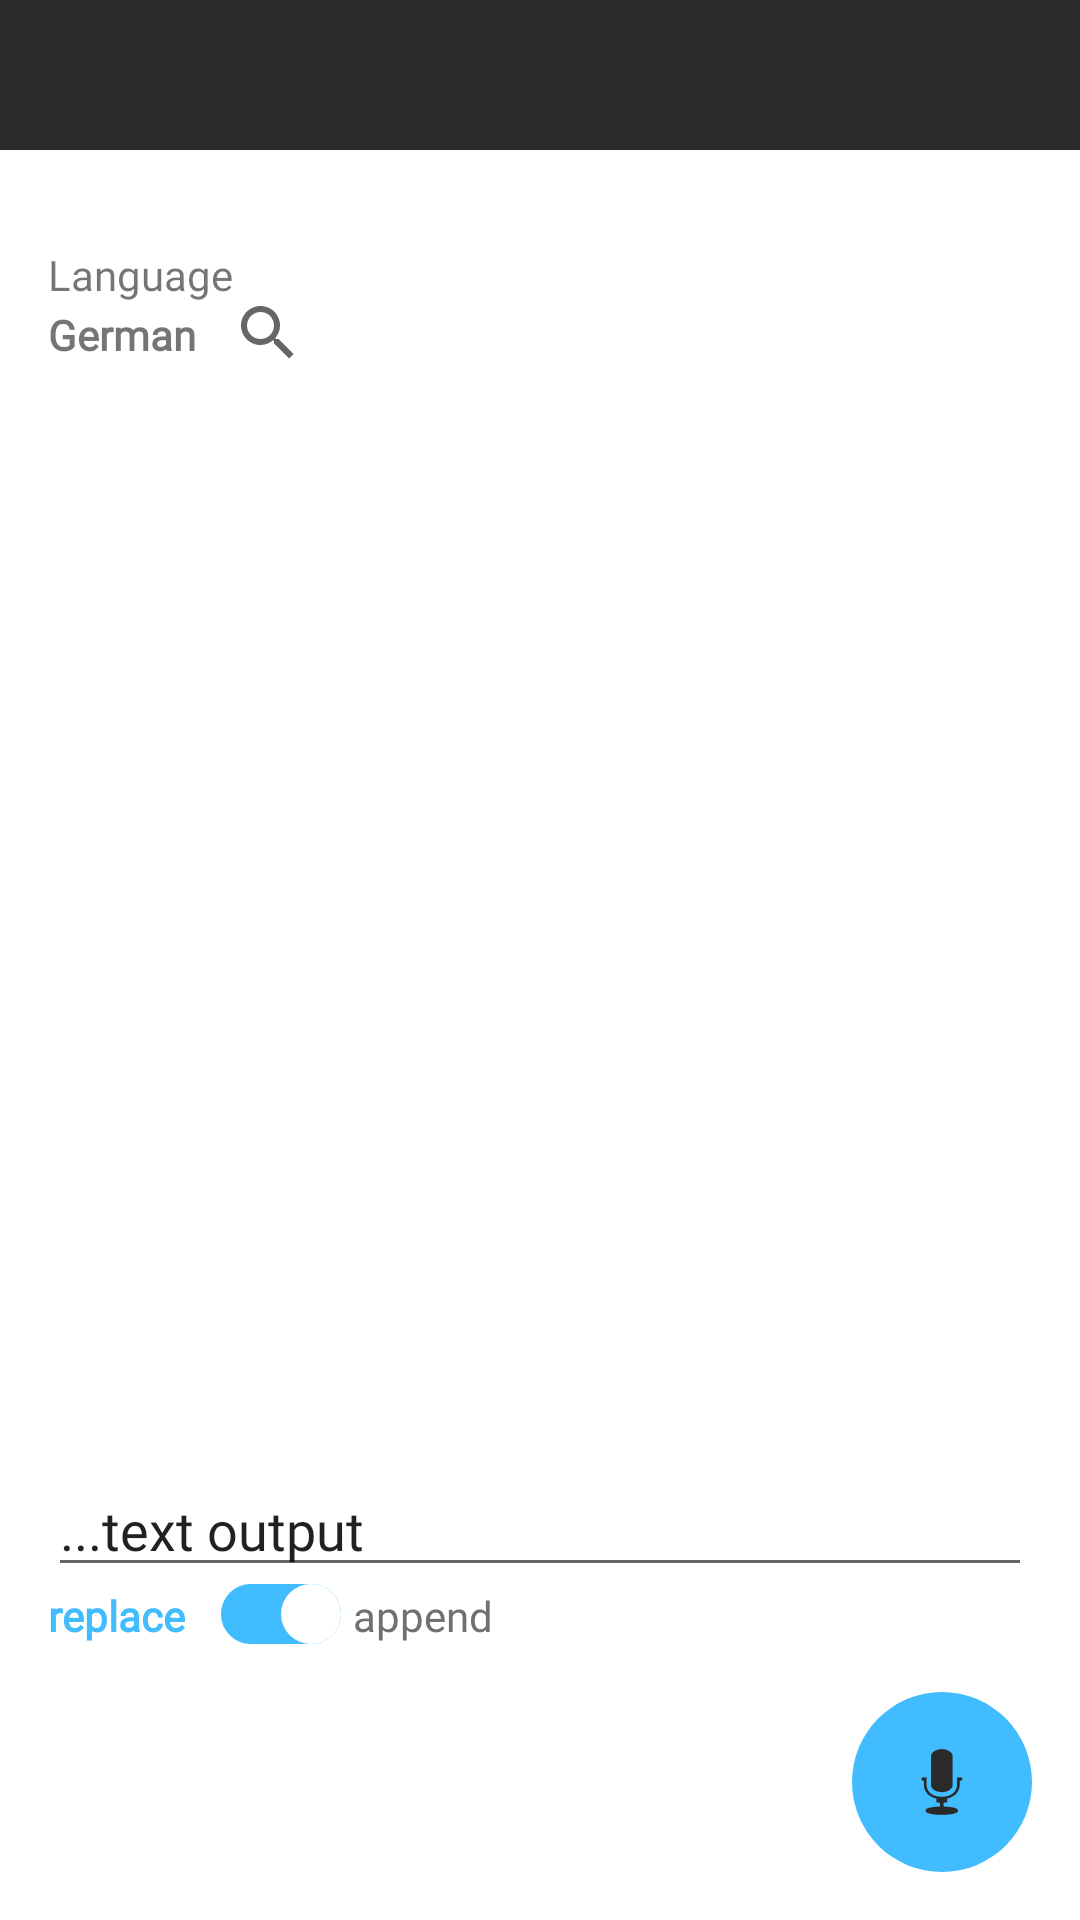

Icon bounding boxes for this 1080 × 1920 phone screenshot, format (x1, y1, x2, y2):
speak now: (852, 1692, 1032, 1872)
